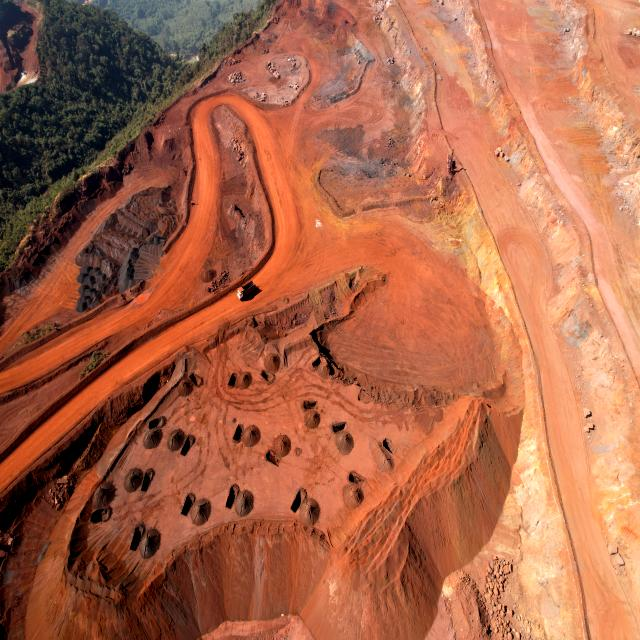Dumper truck: (236, 281, 256, 301)
